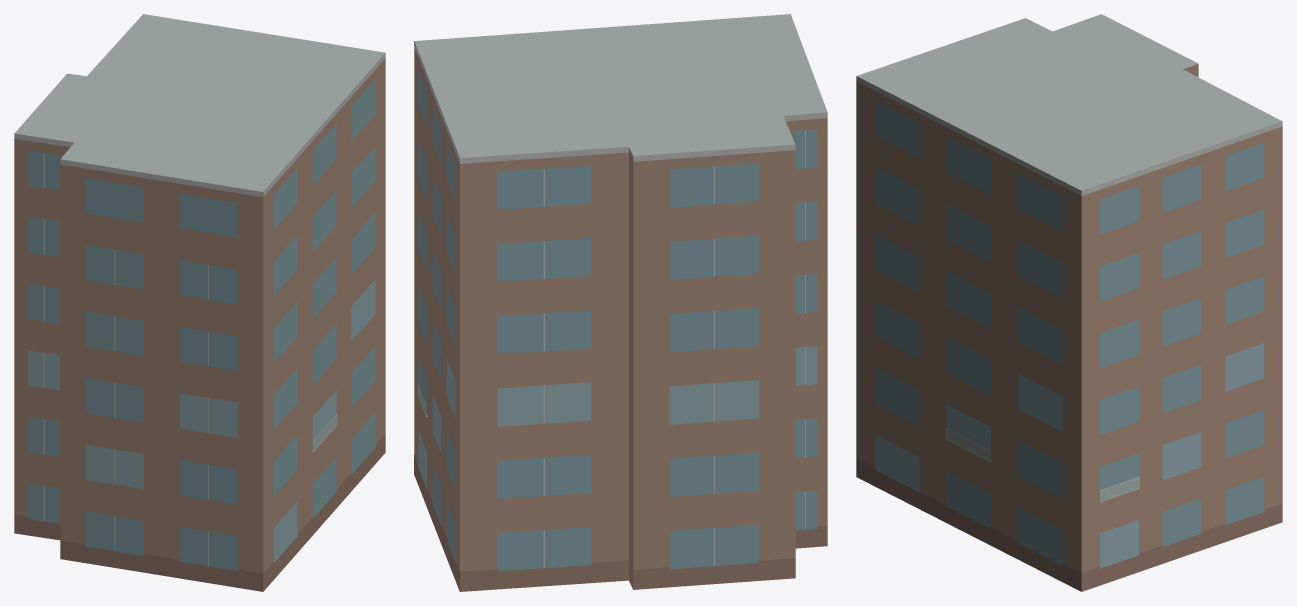
File: survey-upis-32849089.glb
3 renders of one model, left to right at view 1: azimuth 30°, elevation 25°; view 2: azimuth 150°, elevation 25°; view 3: azimuth 270°, elevation 25°, orthographic. The views are drawn at different scales.
Visible parts, largest first — view 1: survey-upis-32849089.tmp; view 2: survey-upis-32849089.tmp; view 3: survey-upis-32849089.tmp.
Boxes of the visible parts, x1,y1,x2,y2 form: survey-upis-32849089.tmp: (14, 14, 385, 591); survey-upis-32849089.tmp: (414, 14, 827, 591); survey-upis-32849089.tmp: (856, 14, 1282, 591).
Bounding box in the file's own units: 17.7 × 18.7 × 18.02.
